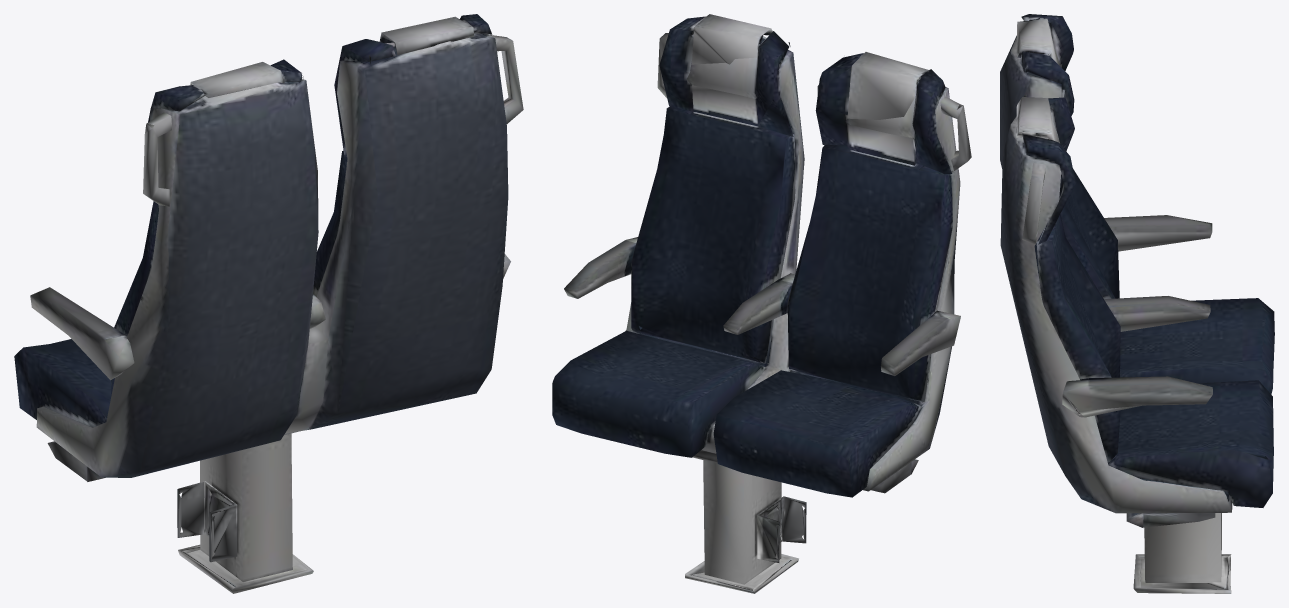
The model's file is istuin_m.glb.
3 renders of one model, left to right at view 1: azimuth 30°, elevation 25°; view 2: azimuth 150°, elevation 25°; view 3: azimuth 270°, elevation 25°, orthographic. The views are drawn at different scales.
Parts seen in each view (by area): view 1: istuin; view 2: istuin; view 3: istuin.
Part boxes in pixels (bbox=[...]): istuin: bbox=[14, 14, 523, 593]; istuin: bbox=[552, 14, 971, 593]; istuin: bbox=[1000, 14, 1274, 593].
Size of the model in its own units: 0.8773 by 1.21 by 0.5975.
1 material, 1 textured.
